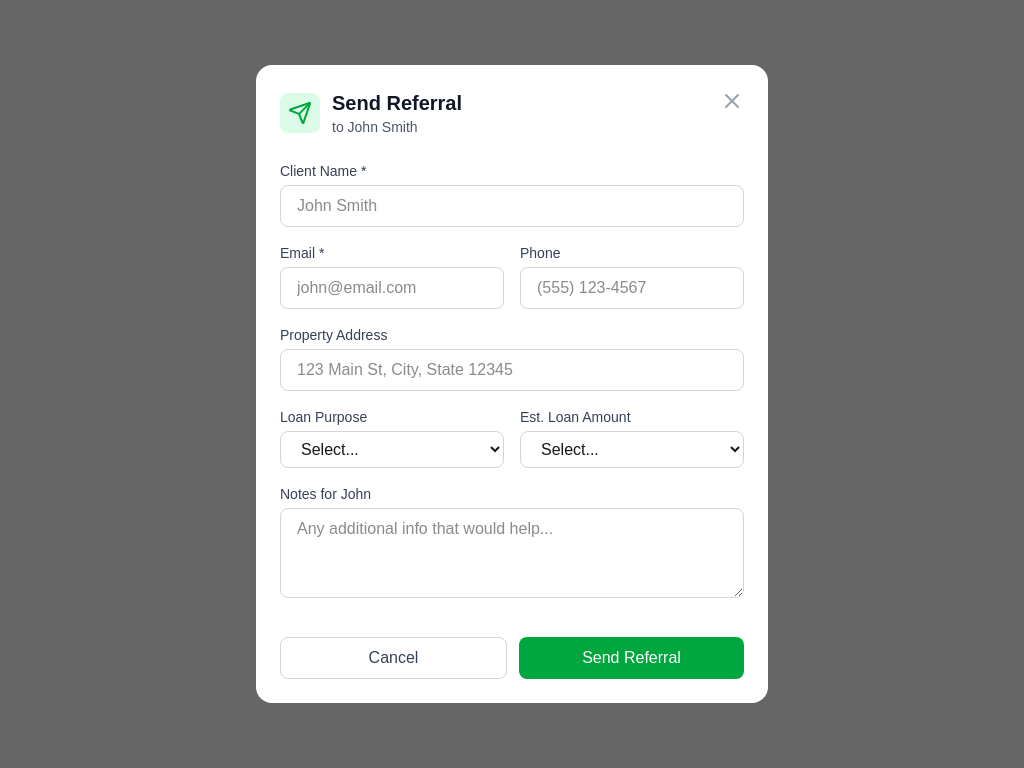
Scenario: ReferralModal › Form submission › shows error message on API failure
Type "Client Name" into the field with placeholder "John Smith" at (512, 206), box [280,185,744,227]
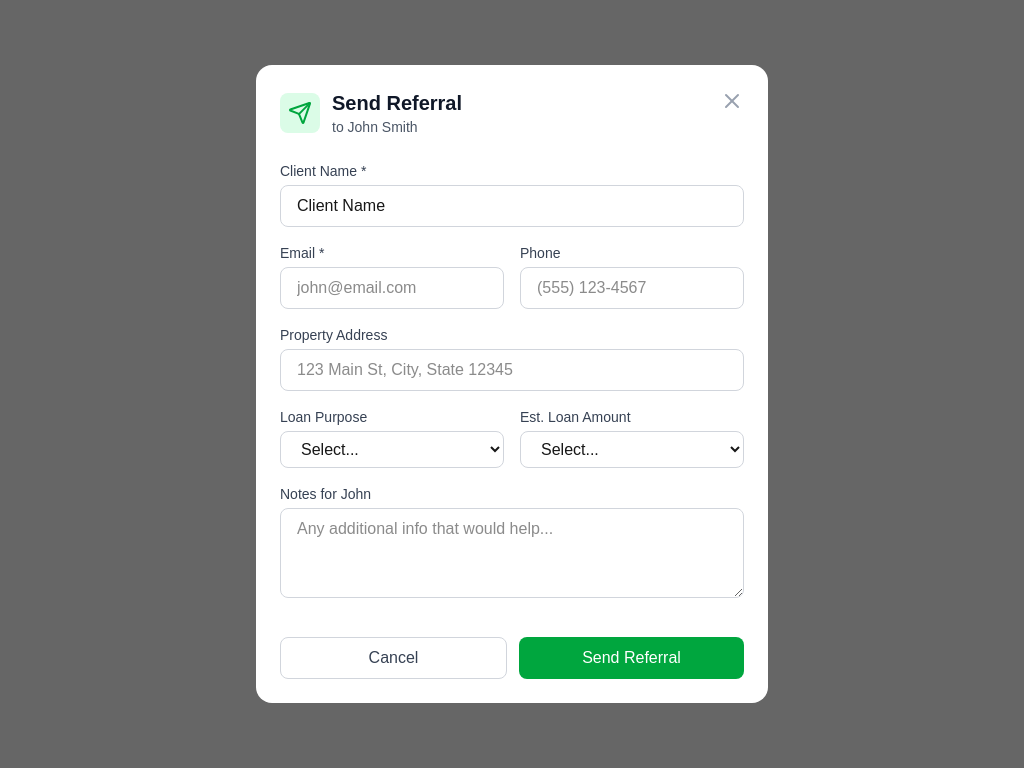
Type "client@example.com" into the field with placeholder "john@email.com" at (392, 288), box [280,267,504,309]
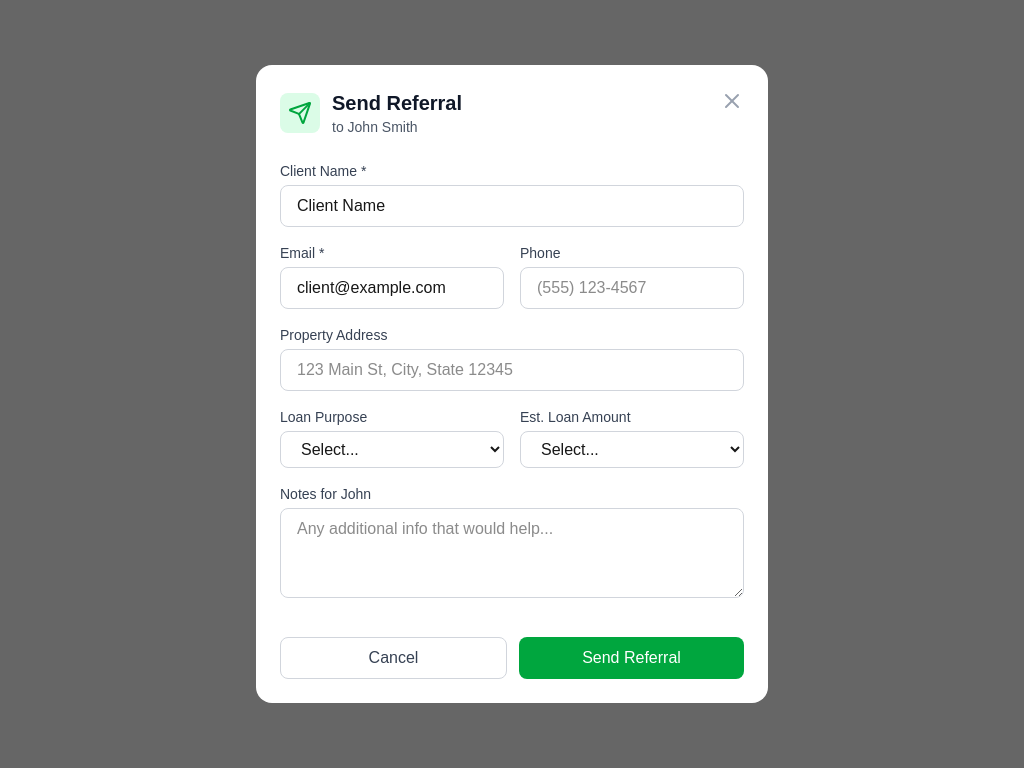
Click the button "Send Referral" at (632, 658), box [519,637,744,679]
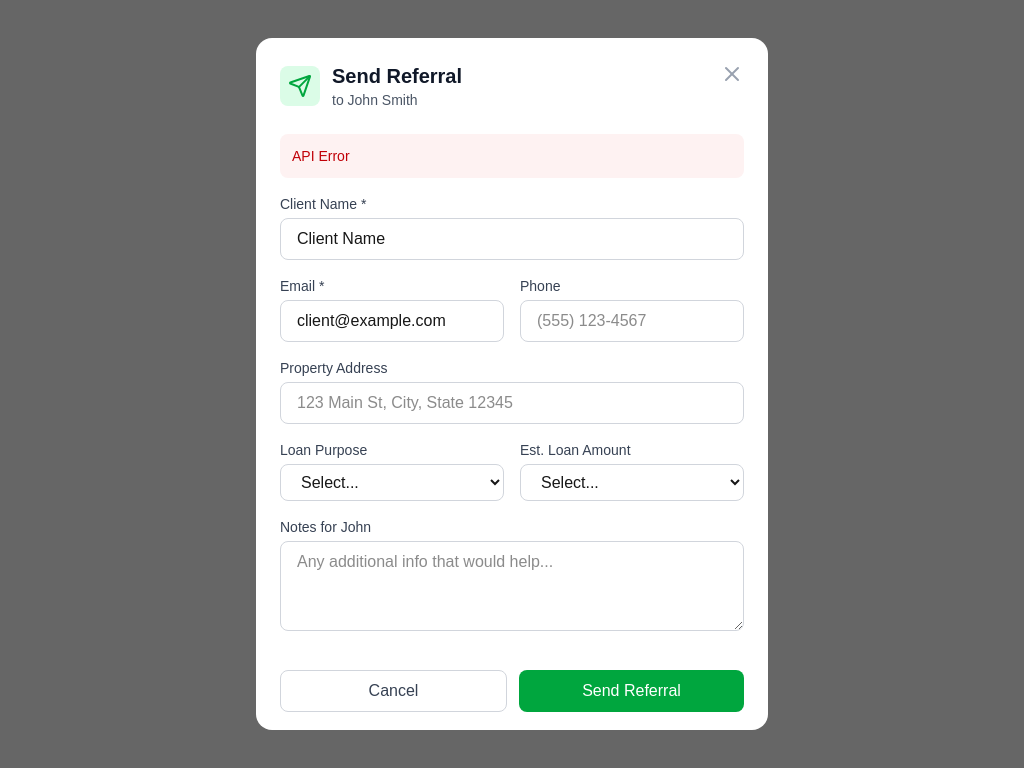
Expected: the text "API Error" is shown, [280,134,744,178]
